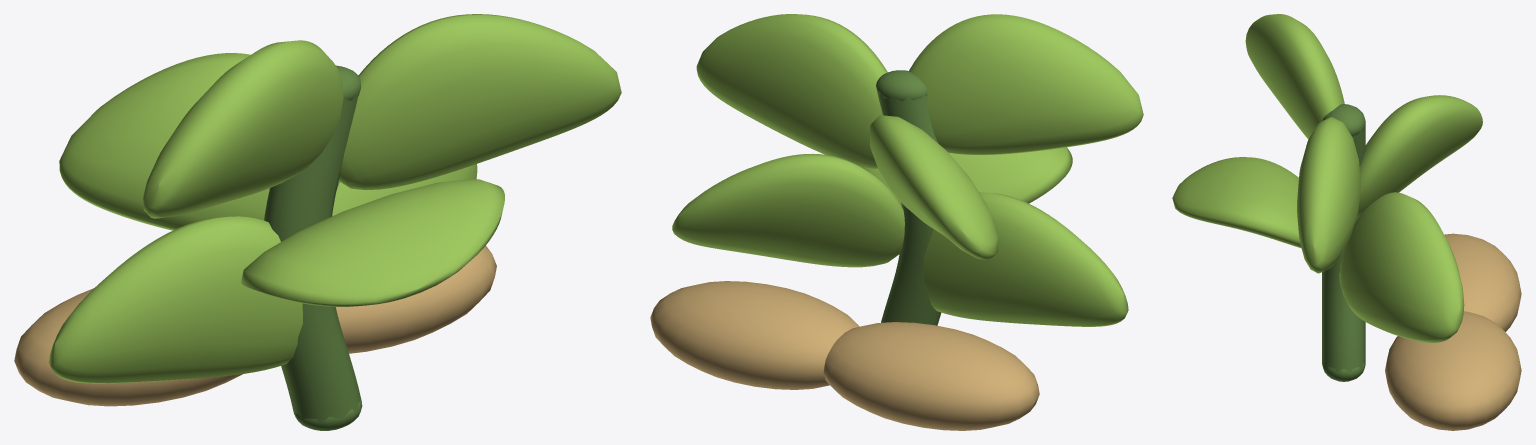
Rendered from crop_3_stage_2.fbx.
3 views of the same model, side by side, from view 1: azimuth 30°, elevation 25°; view 2: azimuth 150°, elevation 25°; view 3: azimuth 270°, elevation 25° (orthographic). The views are drawn at different scales.
Parts seen in each view (by area): view 1: crop_3_stage_2; view 2: crop_3_stage_2; view 3: crop_3_stage_2.
Boxes of the visible parts, x1,y1,x2,y2 form: crop_3_stage_2: (14,14,621,430); crop_3_stage_2: (650,14,1143,430); crop_3_stage_2: (1172,14,1521,430).
Bounding box in the file's own units: 0.44 × 0.325 × 0.32.
Materials: 1 (1 with a texture image).
